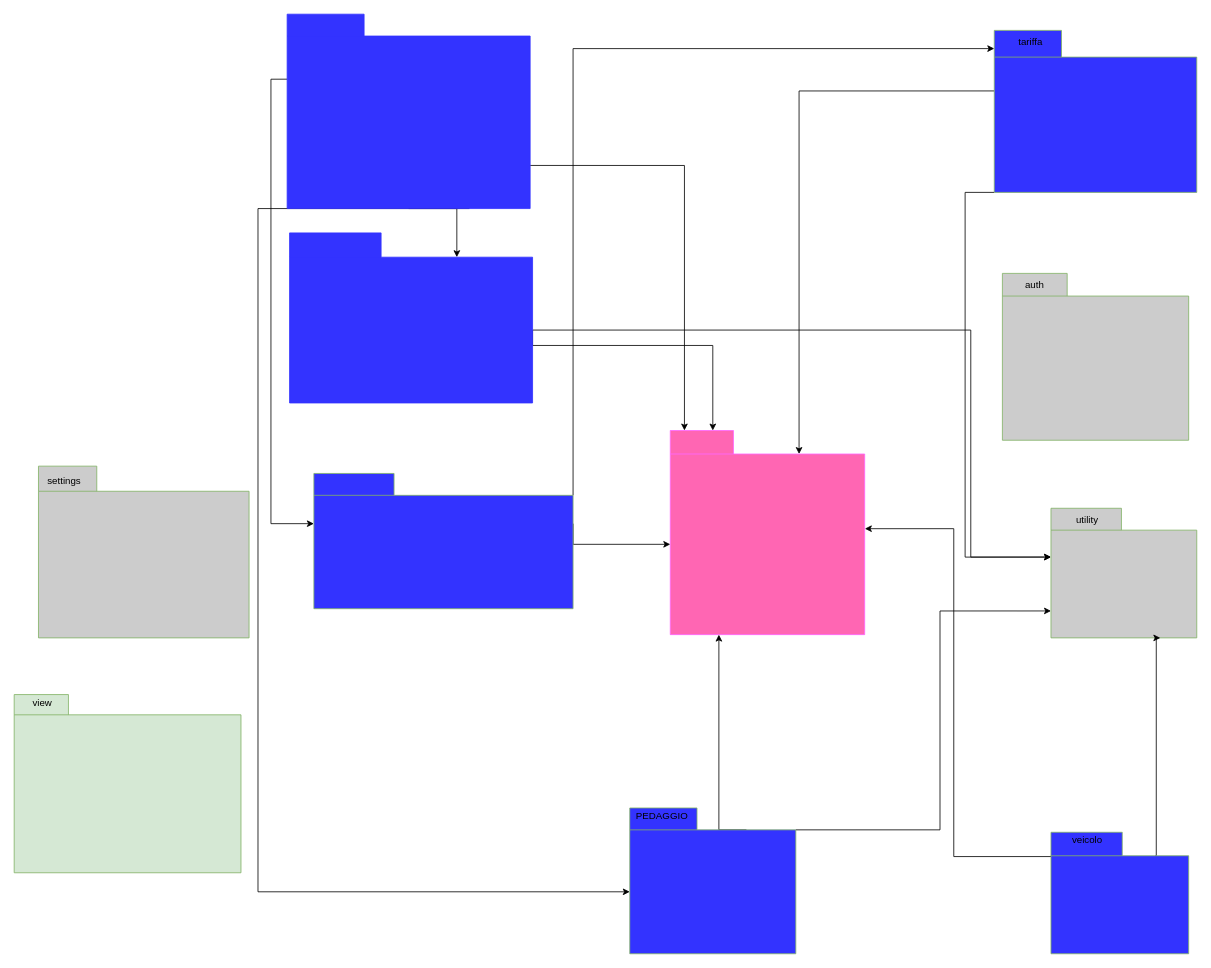
This 1211x968 diagram has some shape labels left out. Each missing label, with the centre of its shape:
"autostrada" belongs at (x=443, y=541).
"casello" belongs at (x=411, y=317).
"front controller" belongs at (x=408, y=111).
"MODELS" belongs at (x=767, y=532).
